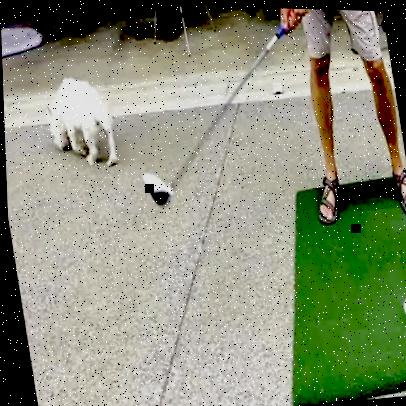ClubHead: (399, 295, 406, 314)
GolfBall: (139, 168, 178, 208)
